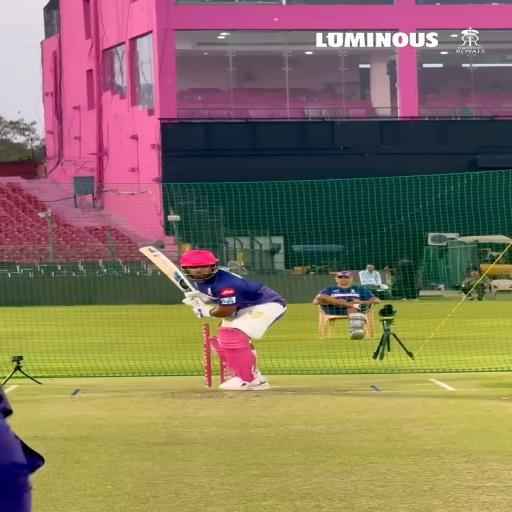Cricket bat: (139, 247, 194, 293)
